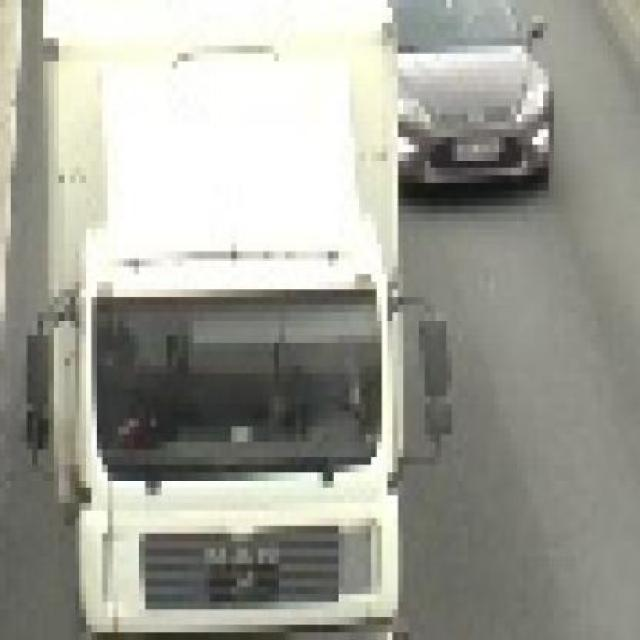truck: (34, 1, 454, 626)
